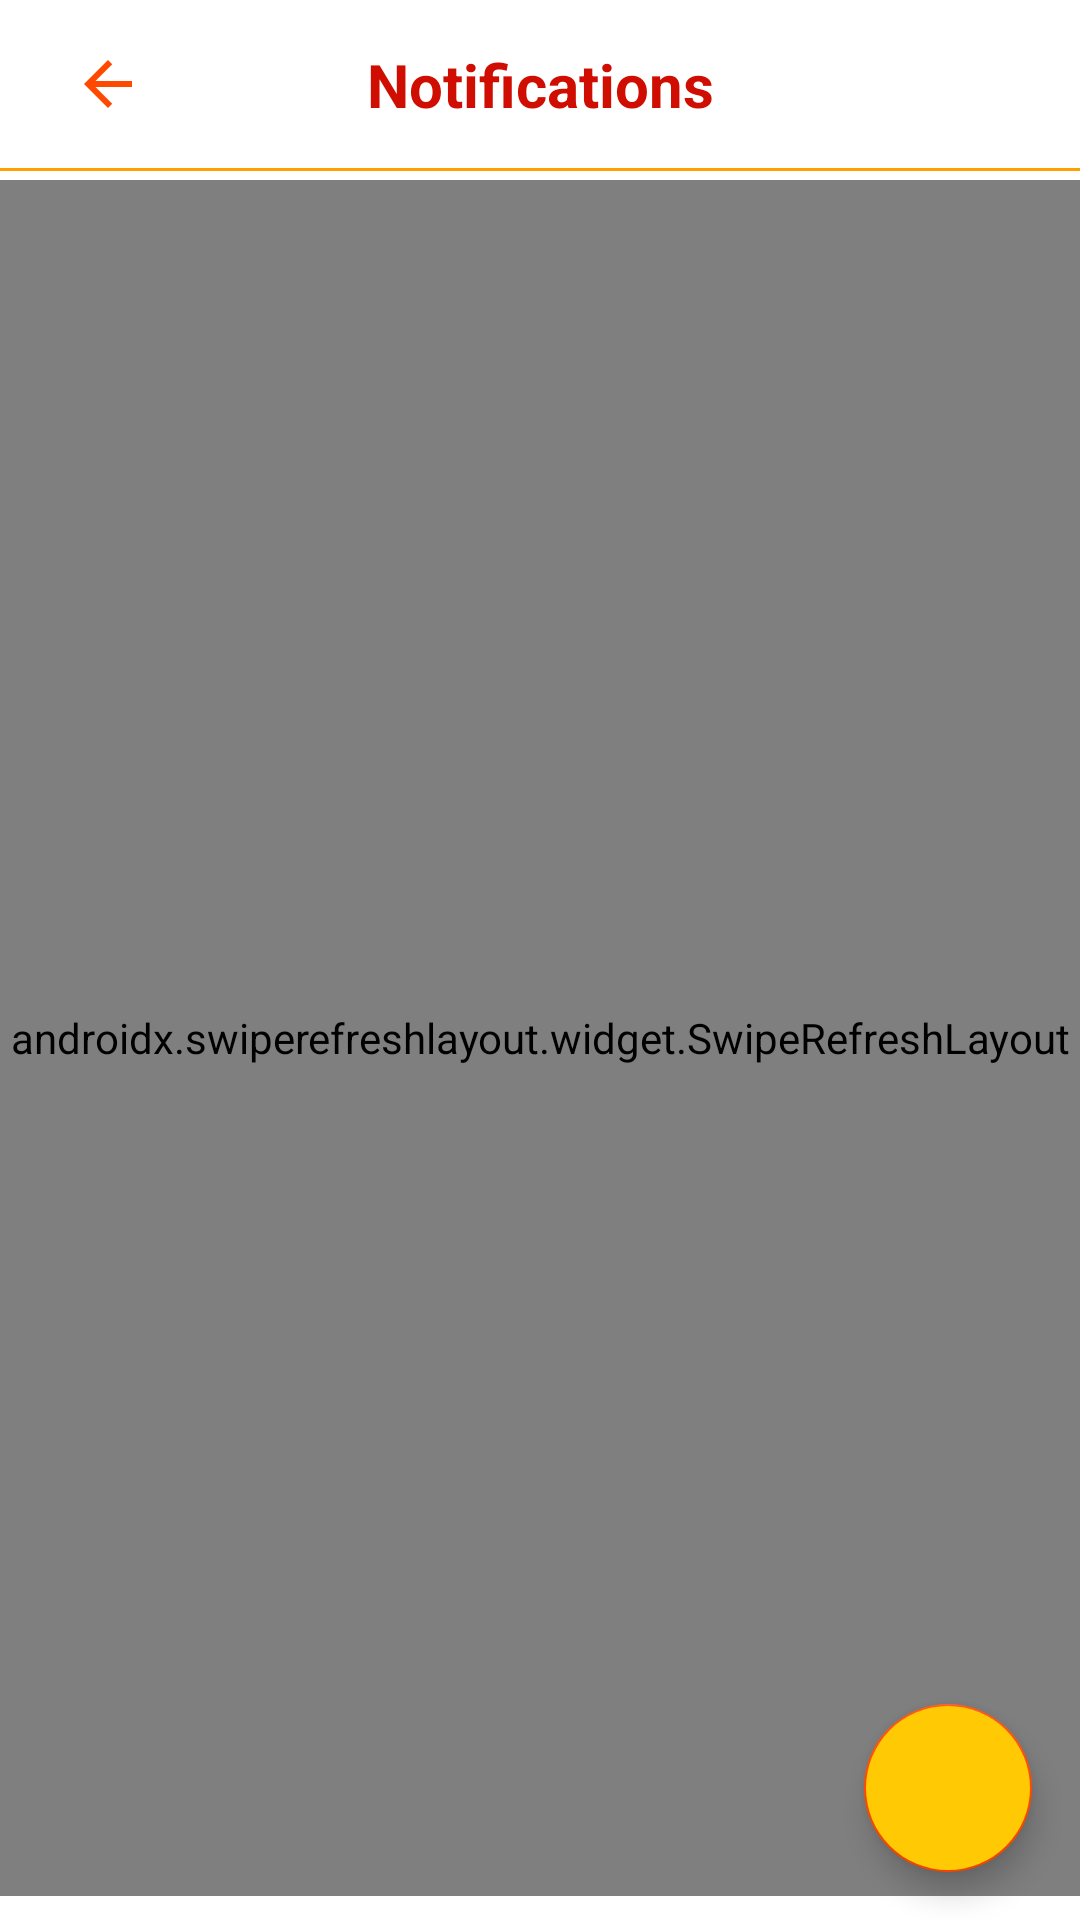

Icon bounding boxes for this 1080w x 1920h phone screenshot, format (x1, y1, x2, y2):
arrow back: (84, 60, 132, 108)
